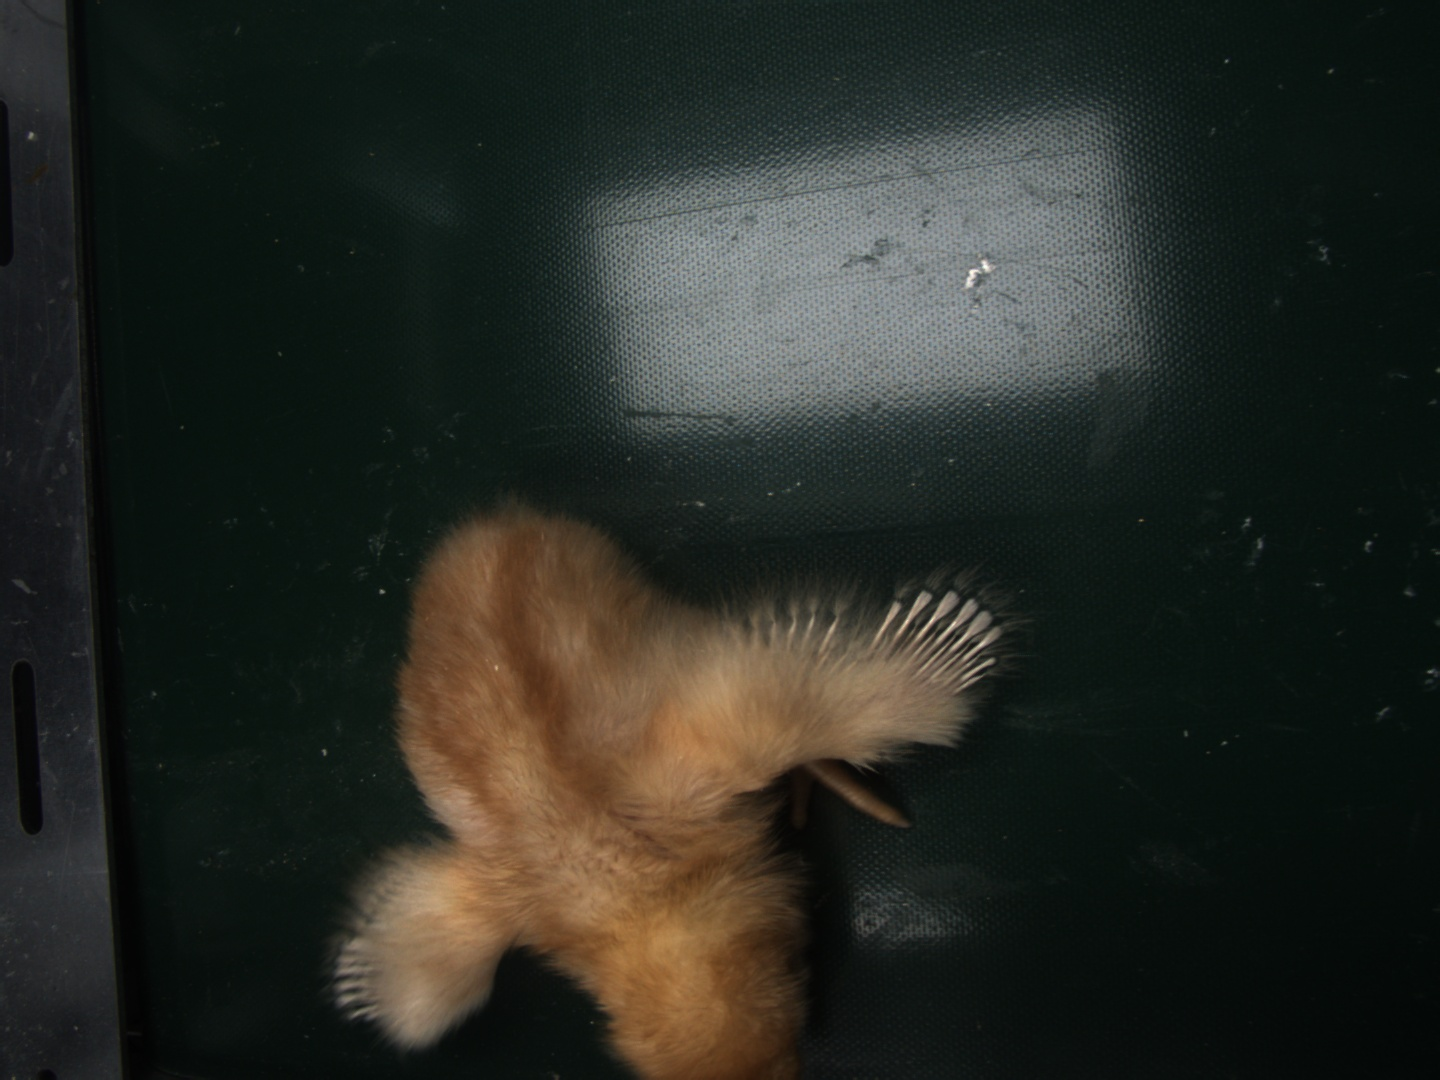female: (866, 591, 1002, 698)
